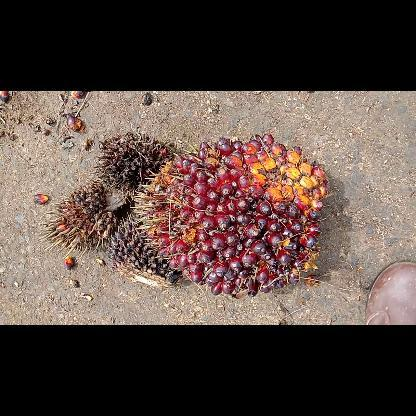TBS abnormal: (34, 180, 124, 256), (106, 218, 184, 292), (94, 130, 172, 196)
TBS masak: (128, 134, 334, 298)
